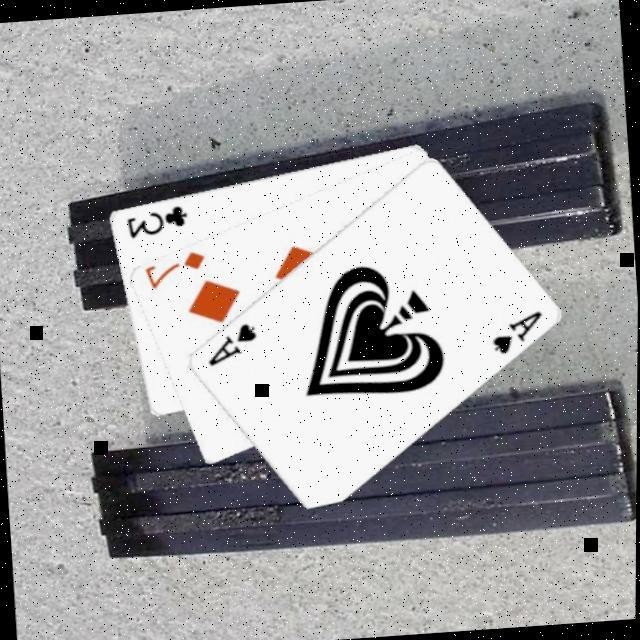3C: (120, 198, 190, 239)
7D: (140, 244, 208, 291)
AS: (484, 304, 546, 356), (201, 316, 260, 368)
